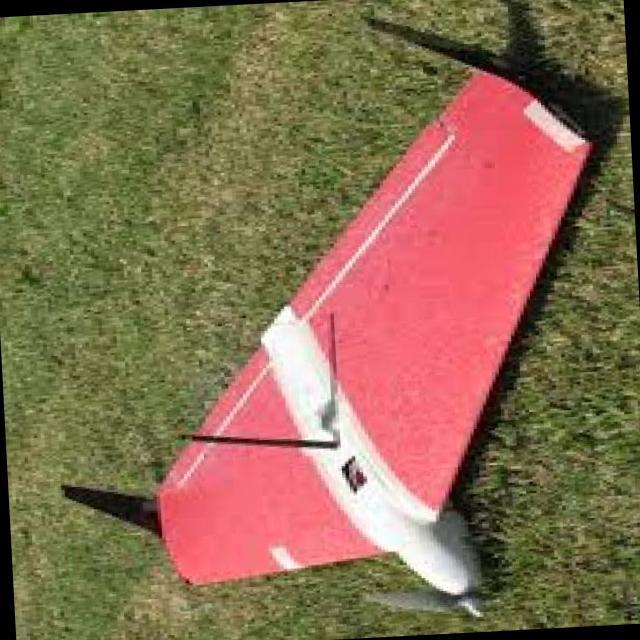iha: (96, 57, 640, 595)
